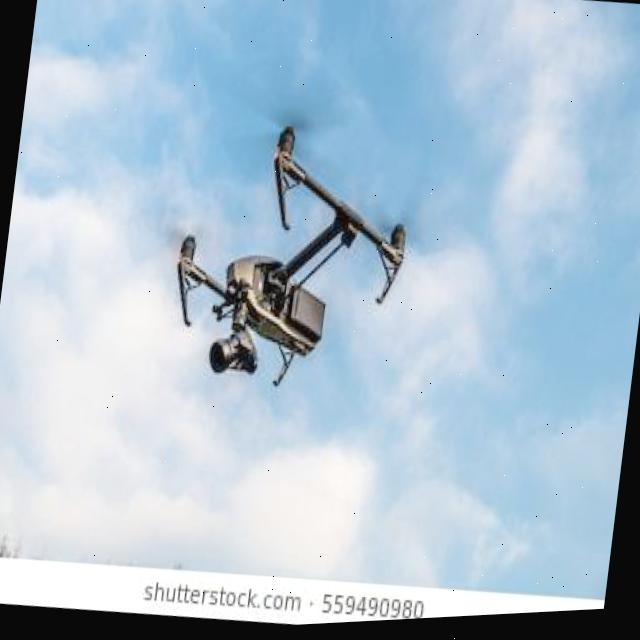drone: (84, 20, 488, 466)
